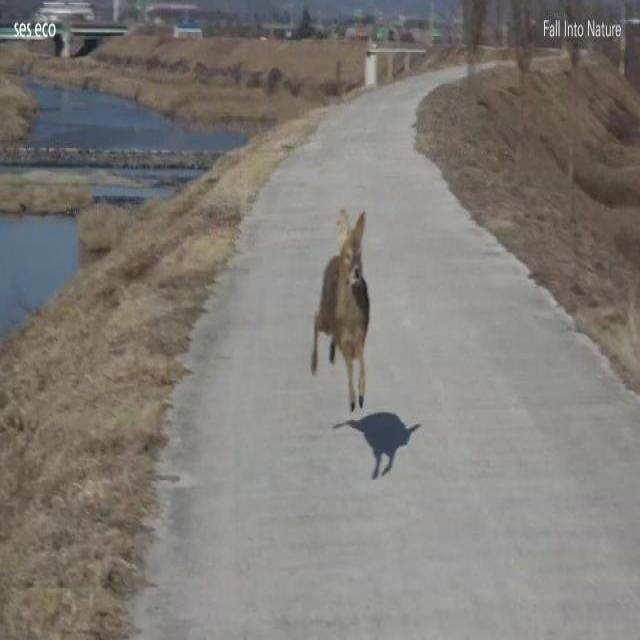deer: (311, 207, 369, 412)
